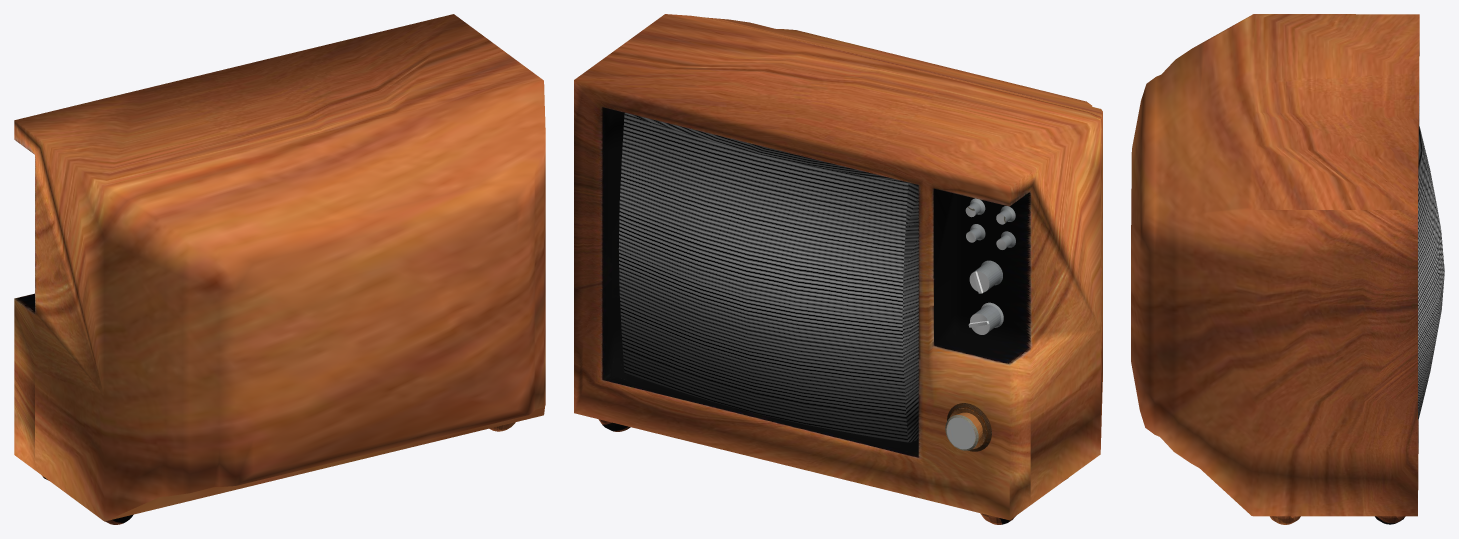
The picture shows the model from 3 angles, left to right: view 1: azimuth 30°, elevation 25°; view 2: azimuth 150°, elevation 25°; view 3: azimuth 270°, elevation 25°; orthographic projection. The views are drawn at different scales.
Visible parts, largest first — view 1: Cube.001; view 2: Cube.001, Cube, Cylinder; view 3: Cube.001, Cube, Sphere.
Part boxes in pixels (<box>): Cube.001: <box>14,14,545,521</box>; Cube.001: <box>574,14,1102,520</box>; Cube: <box>618,113,918,442</box>; Cylinder: <box>945,198,1015,451</box>; Cube.001: <box>1131,14,1419,516</box>; Cube: <box>1418,125,1444,421</box>; Sphere: <box>1270,516,1405,524</box>.
Bounding box in the file's own units: 520 × 402 × 351.
3 materials, 3 textured.
